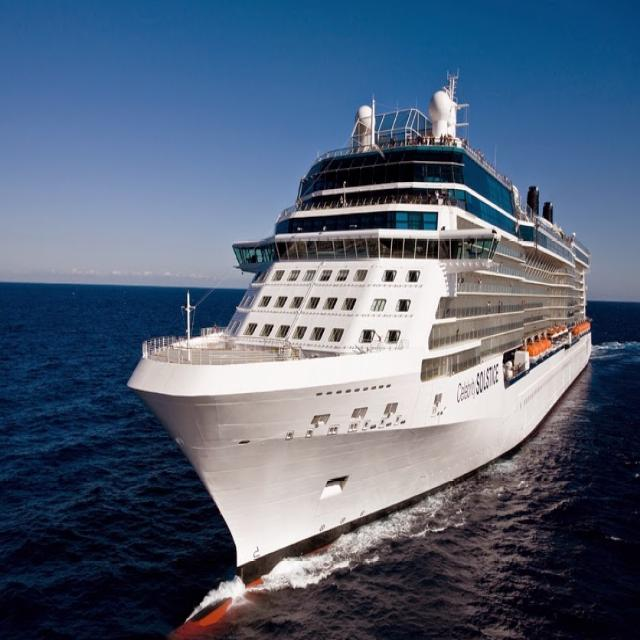passenger ship: (136, 78, 601, 568)
